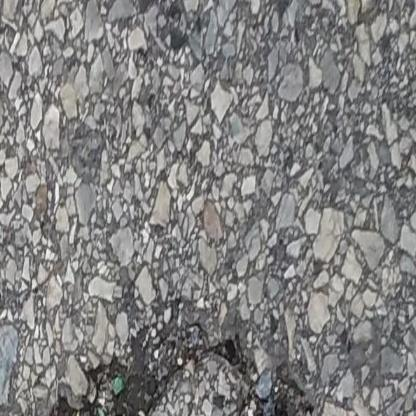Cracks: (30, 328, 322, 416)
